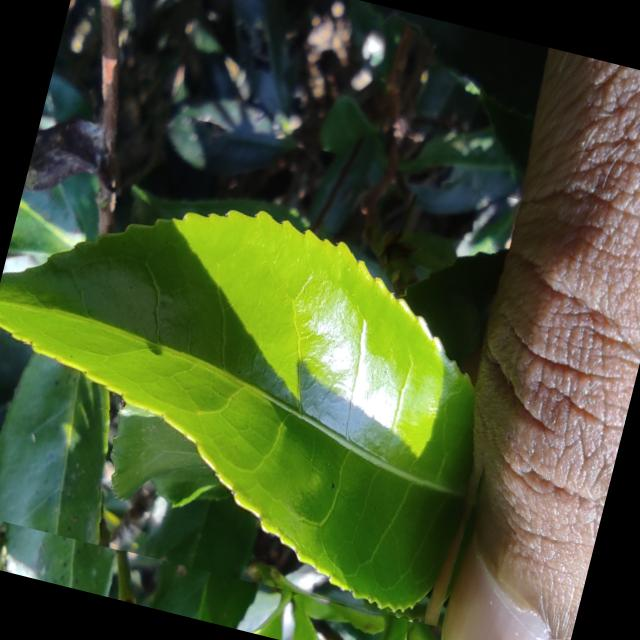Category C 4-7 days: (0, 83, 559, 635)
